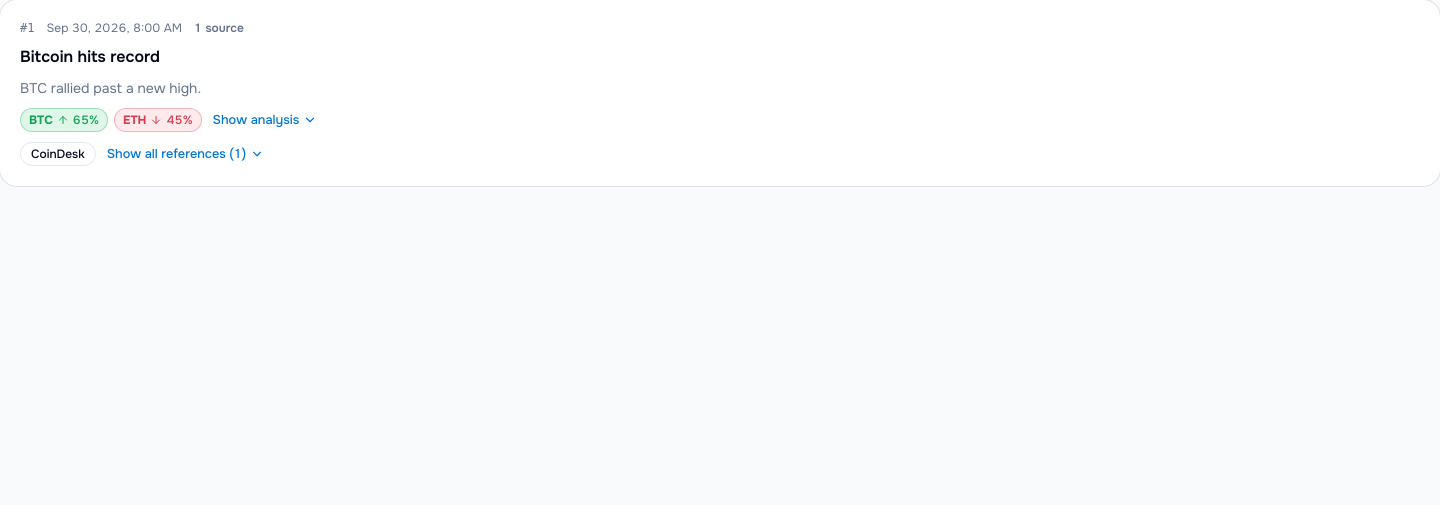
Test: AI analysis on a news card › renders the analysis in English for the English UI
This screenshot has width=1440, height=505.
Check: the element named "BTC Up, 65% confidence" is shown, box [20,108,108,132]
Step 1. Click the button "Show analysis" → click(265, 120), box [208,108,322,132]
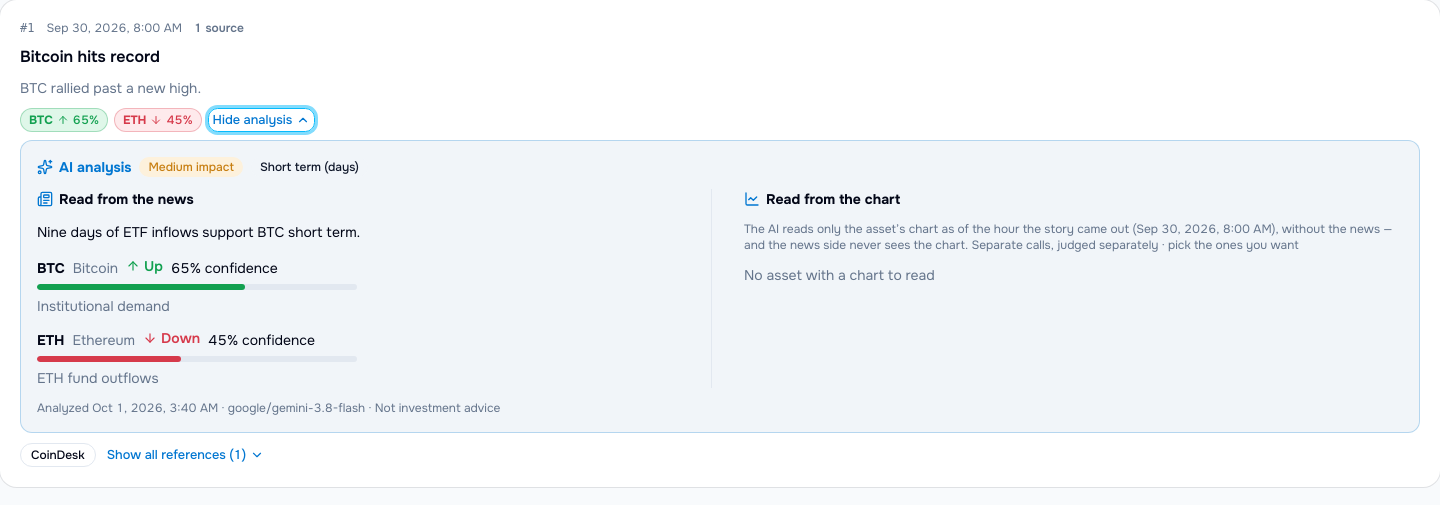
Check: the text "Nine days of ETF inflows support BTC short term." is shown, box [37,223,360,241]
Check: the text "Institutional demand" is shown, box [37,297,170,315]
Check: the text "Medium impact" is shown, box [139,157,243,177]
